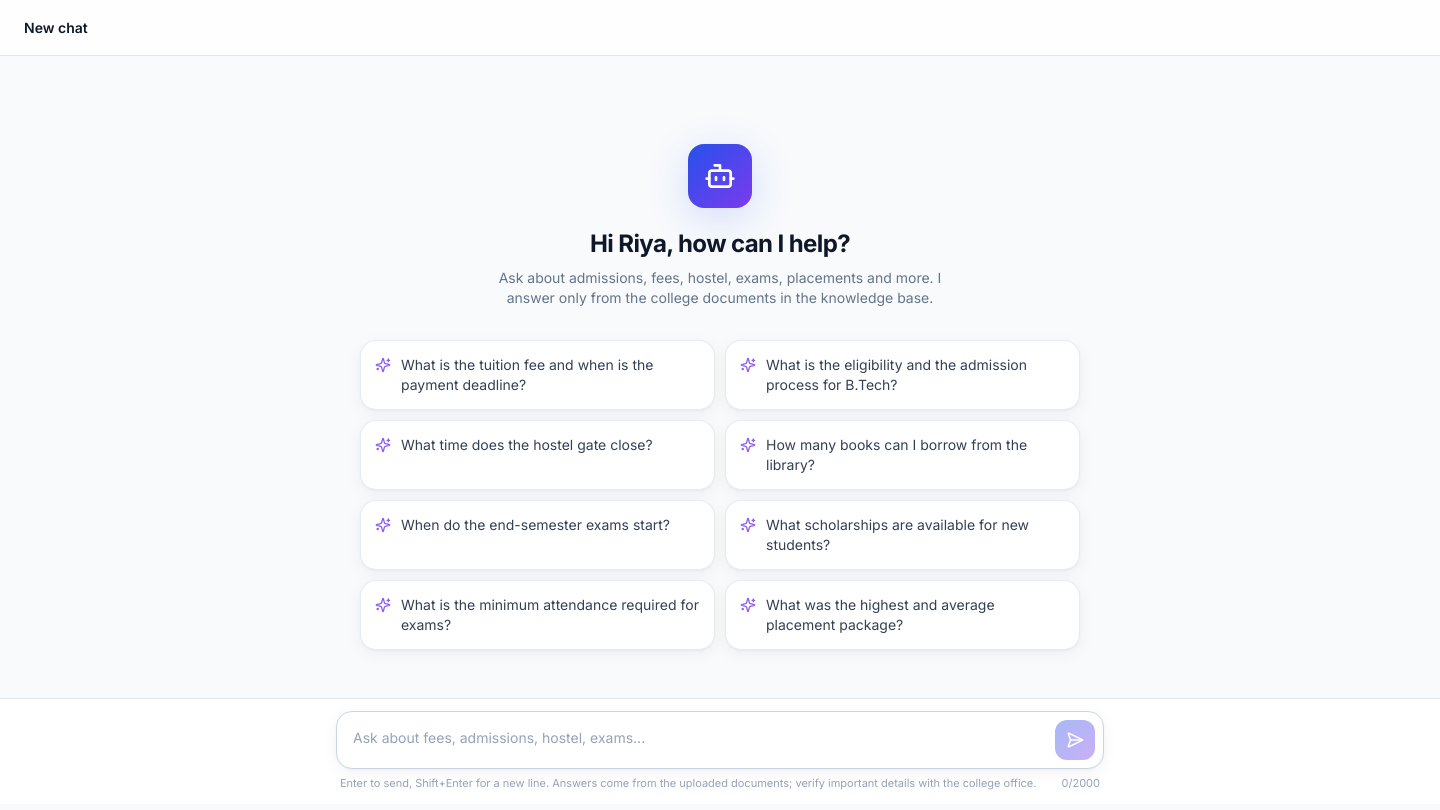
Test: Scrolling › does not auto-scroll on the welcome screen, but does once messages exist
Expected: the heading "Hi Riya, how can I help?" is shown, [590,228,850,260]
Type "When does the gate close?" into the text box named "Ask a question about the college" at point(696, 740), box [345,720,1047,760]
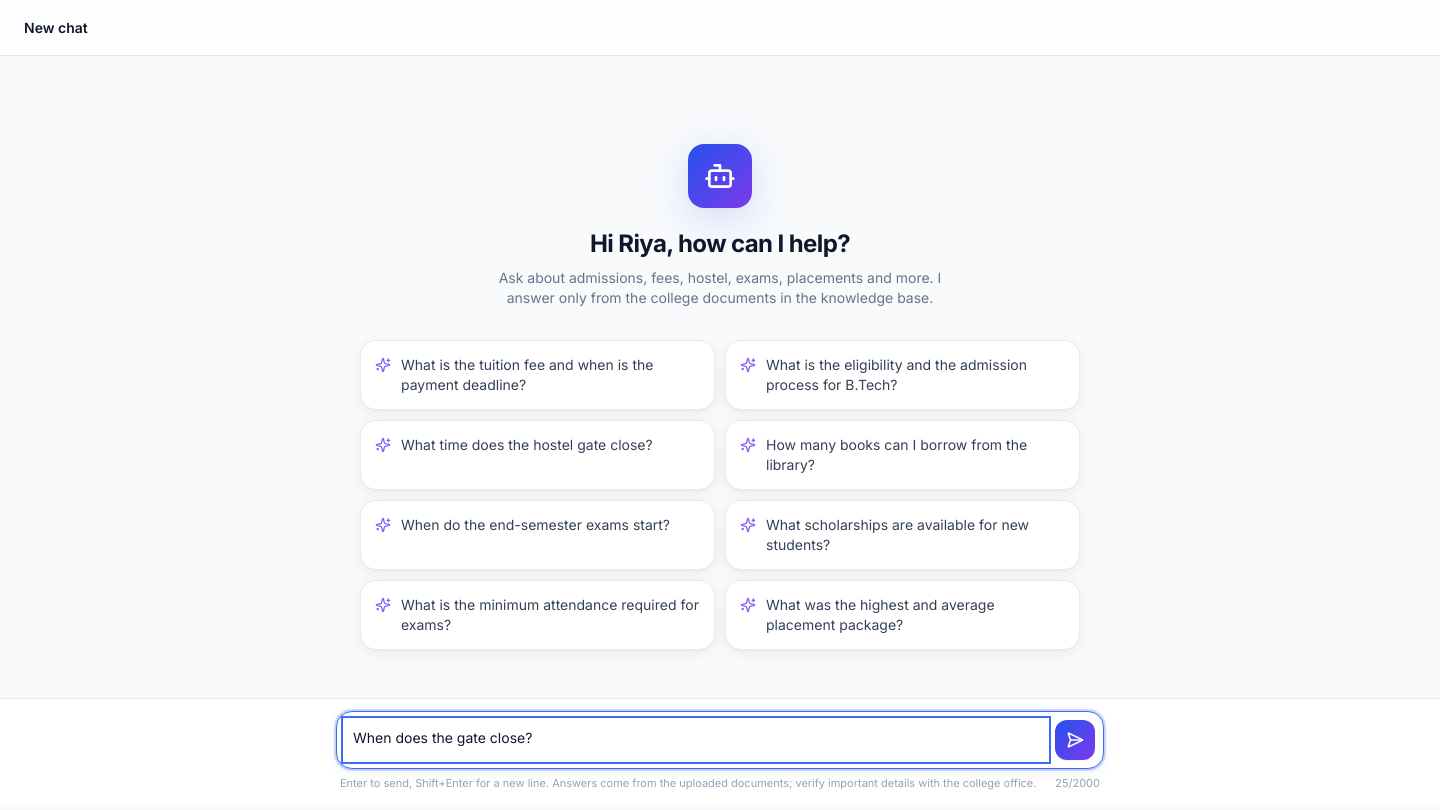
Click the button named "Send question" at point(1075, 740), box [1055,720,1095,760]
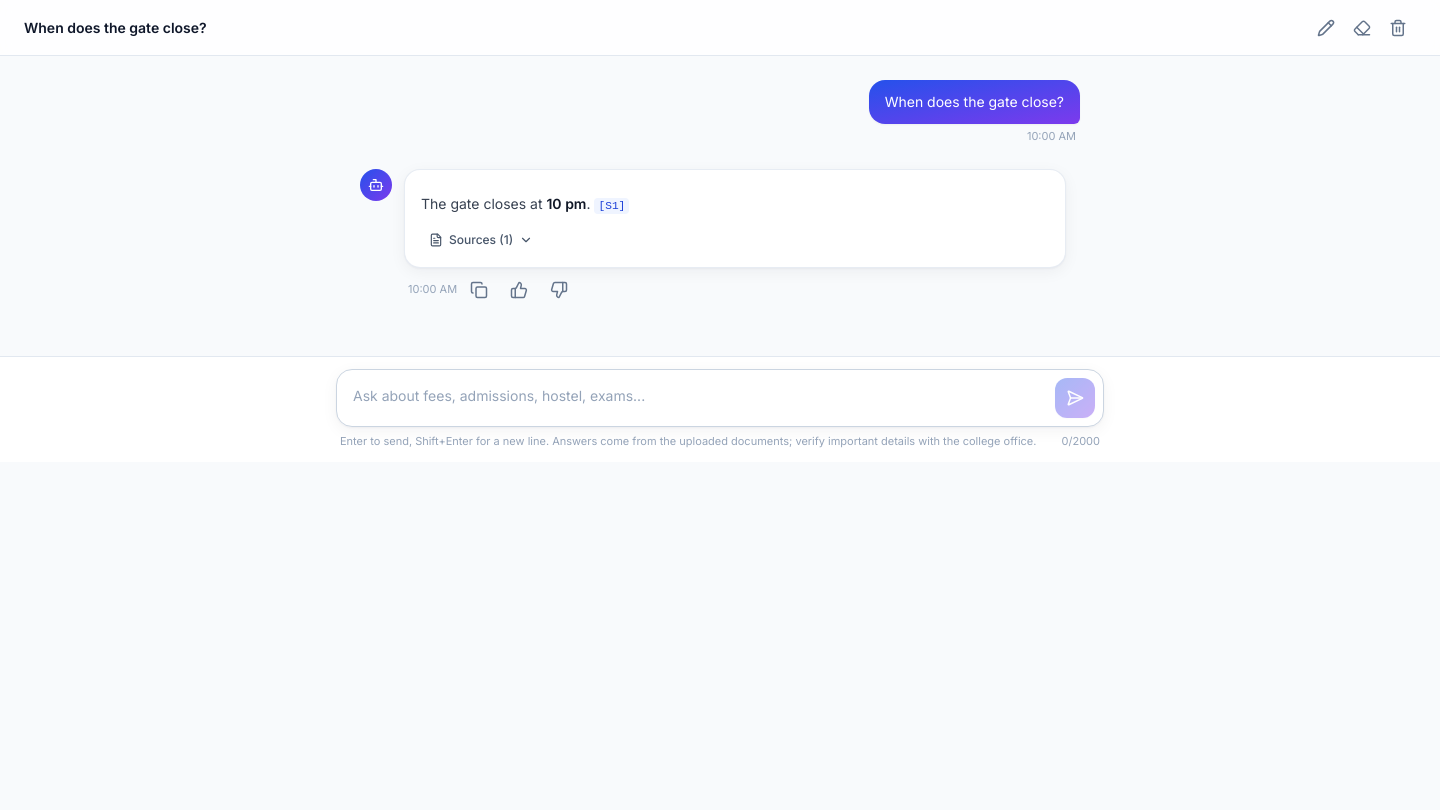
Expected: the text "10 pm" is shown, [546,194,586,212]
